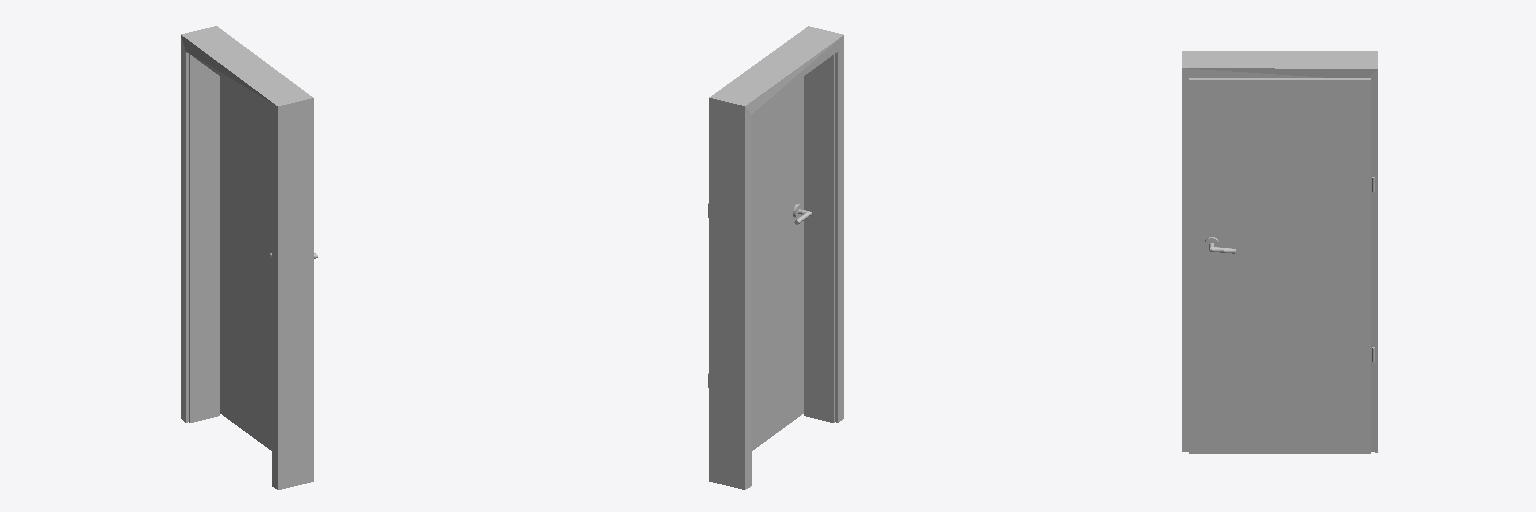
File: door103.obj
The picture shows the model from 3 angles: view 1: azimuth 30°, elevation 25°; view 2: azimuth 150°, elevation 25°; view 3: azimuth 270°, elevation 25°; orthographic projection.
Visible parts, largest first — view 1: Cylinder.005, Cylinder.001; view 2: Cylinder.005, Cylinder.001; view 3: Cylinder.001, Cylinder.005.
Boxes of the visible parts, x1,y1,x2,y2 form: Cylinder.005: [181, 26, 313, 489]; Cylinder.001: [220, 77, 271, 450]; Cylinder.005: [708, 26, 843, 489]; Cylinder.001: [708, 77, 803, 450]; Cylinder.001: [1189, 78, 1374, 453]; Cylinder.005: [1182, 51, 1377, 452].
Bounding box in the file's own units: 0.3039 × 2.05 × 0.95.